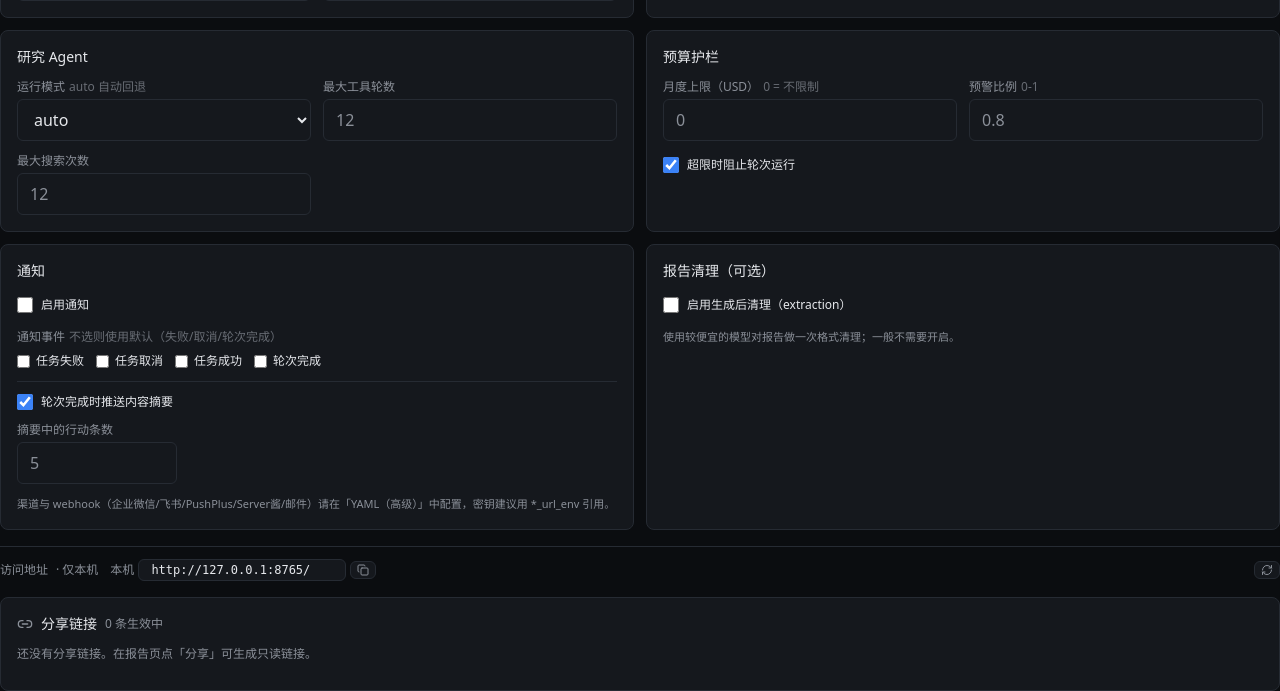
Settings access card › shows how to enable the gateway when it is not installed
(page scrolled)
Expected: the field showing "http://127.0.0.1:8765/" is shown, [138,558,346,580]
Click the text "访问地址" at (24, 570), box [0,562,48,578]
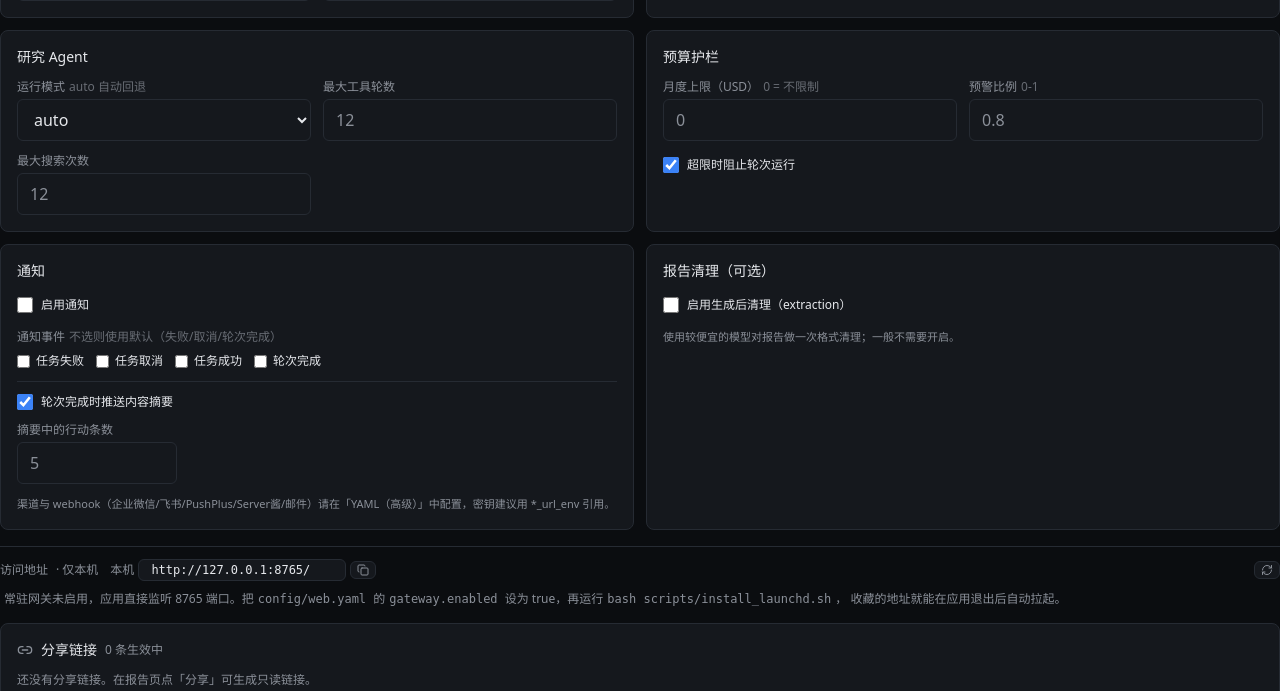
Result: the text "常驻网关未启用" is shown at [4,590,175,606]
